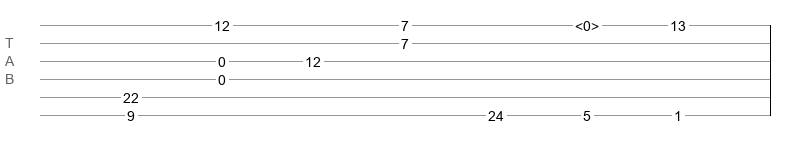0: (218, 72, 226, 82), (218, 54, 226, 64)
1: (674, 108, 682, 118)
12: (214, 18, 230, 28), (305, 54, 321, 64)
13: (670, 18, 686, 28)
22: (123, 90, 139, 100)
24: (488, 108, 504, 118)
5: (583, 108, 591, 118)
7: (401, 18, 409, 28), (401, 36, 409, 46)
9: (127, 108, 135, 118)
harmonic: (575, 18, 599, 28)
